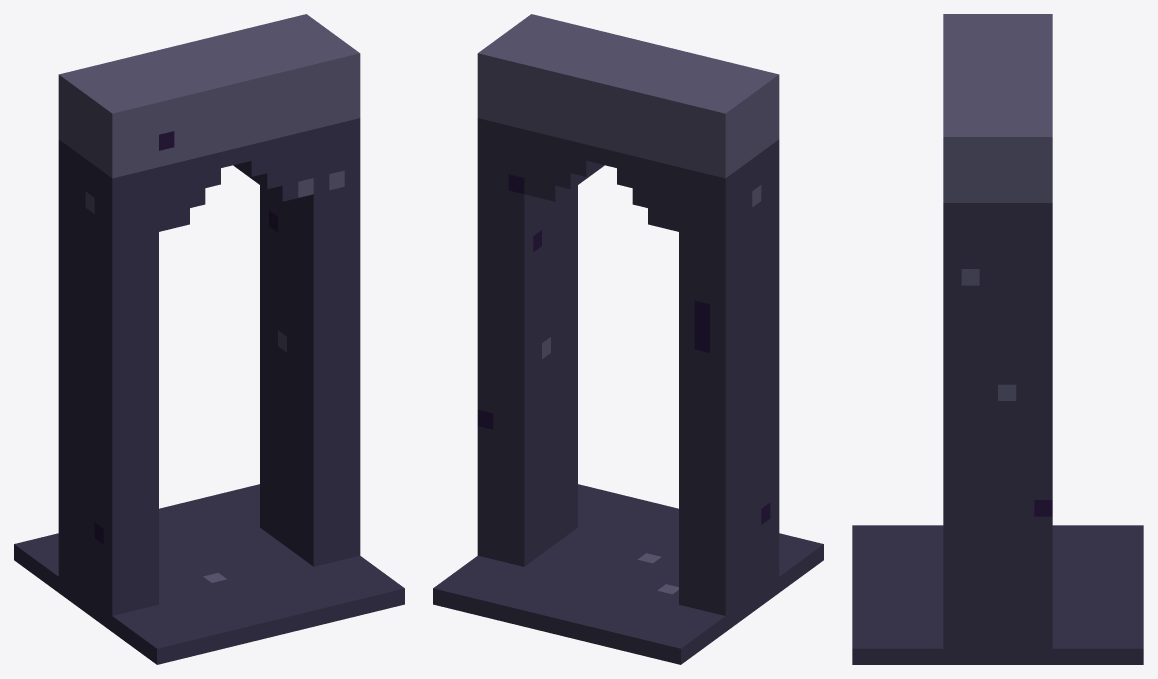
Rendered from archway.obj.
3 views of the same model, side by side, from view 1: azimuth 30°, elevation 25°; view 2: azimuth 150°, elevation 25°; view 3: azimuth 270°, elevation 25° (orthographic).
Parts seen in each view (by area): view 1: archway; view 2: archway; view 3: archway.
Part boxes in pixels (bbox=[...]): archway: bbox=[14, 14, 404, 664]; archway: bbox=[433, 14, 823, 664]; archway: bbox=[852, 14, 1143, 664].
Size of the model in its own units: 1 by 2 by 1.
Materials: 1 (1 with a texture image).
